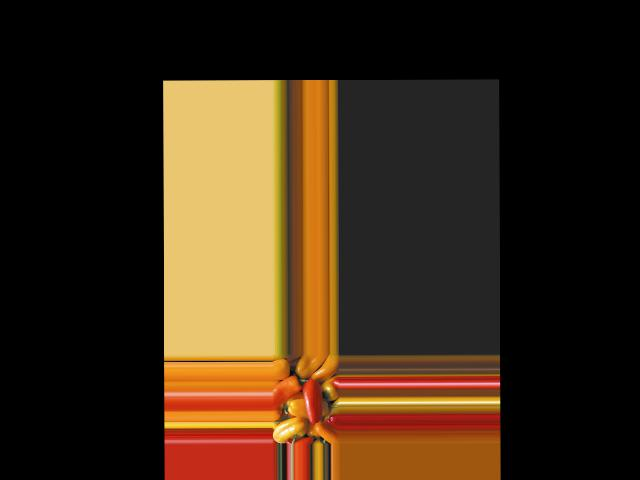bell_pepper: (273, 415, 304, 443)
